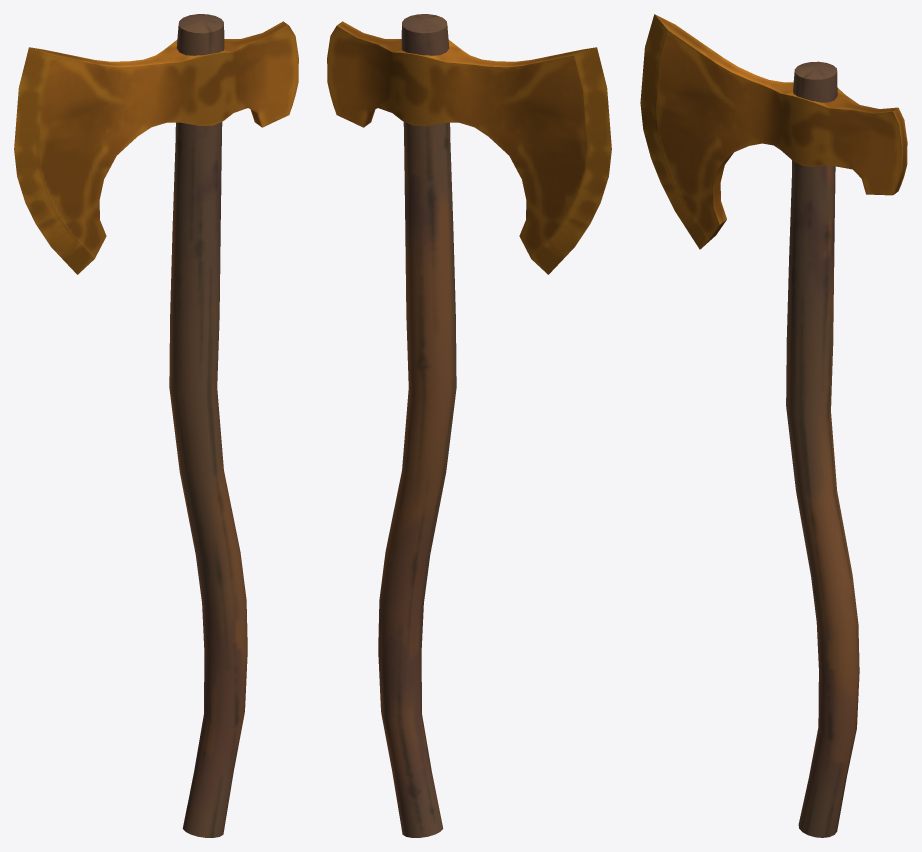
Rendered from axe.glb.
3 renders of one model, left to right at view 1: azimuth 30°, elevation 25°; view 2: azimuth 150°, elevation 25°; view 3: azimuth 330°, elevation 25°, orthographic. The views are drawn at different scales.
Parts seen in each view (by area): view 1: LIB_axe; view 2: LIB_axe; view 3: LIB_axe.
Boxes of the visible parts, <box> form: LIB_axe: <box>14,14,298,837</box>; LIB_axe: <box>327,14,611,837</box>; LIB_axe: <box>640,14,907,837</box>.
Bounding box in the file's own units: 0.2849 × 0.8 × 0.0445.
1 material, 1 textured.
